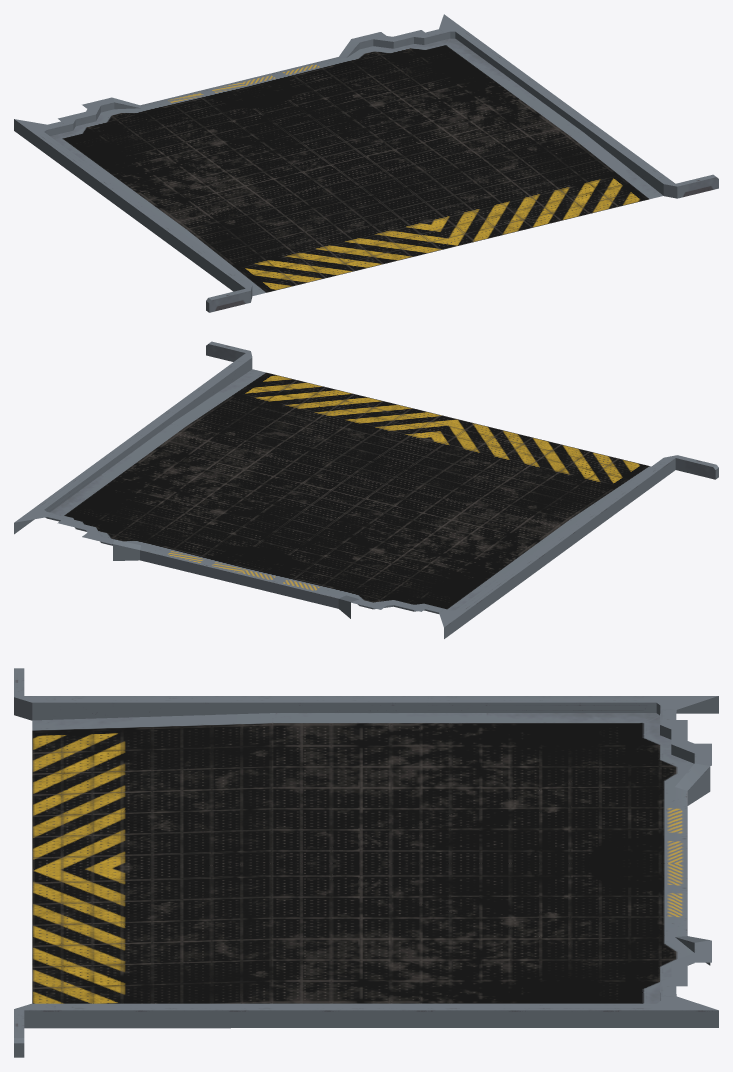
Rendered from IndoorEntryRamp.dae.
The picture shows the model from 3 angles, top to bottom: view 1: azimuth 30°, elevation 25°; view 2: azimuth 150°, elevation 25°; view 3: azimuth 270°, elevation 25°; orthographic projection. The views are drawn at different scales.
Visible parts, largest first — view 1: EntranceRamp; view 2: EntranceRamp; view 3: EntranceRamp.
Boxes of the visible parts, left/top/right/bottom form: EntranceRamp: left=14, top=14, right=718, bottom=312; EntranceRamp: left=14, top=341, right=718, bottom=638; EntranceRamp: left=14, top=668, right=718, bottom=1057.
Size of the model in its own units: 10.66 by 8.52 by 0.3412.
1 material, 1 textured.
